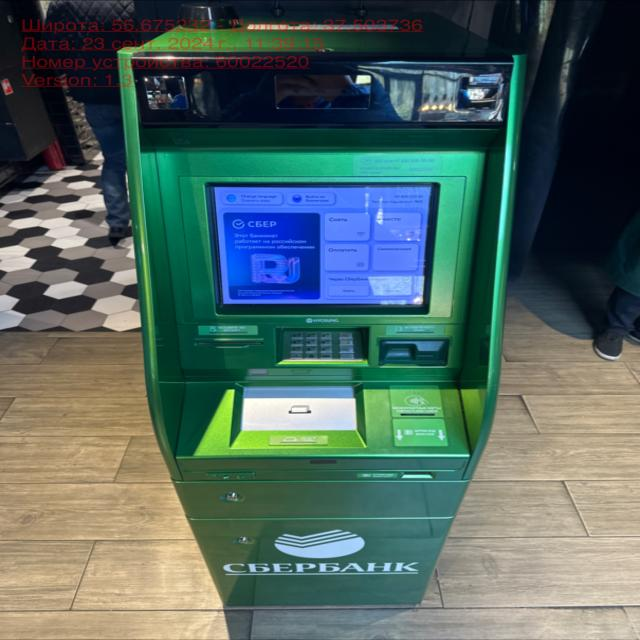bank: (120, 27, 521, 609)
